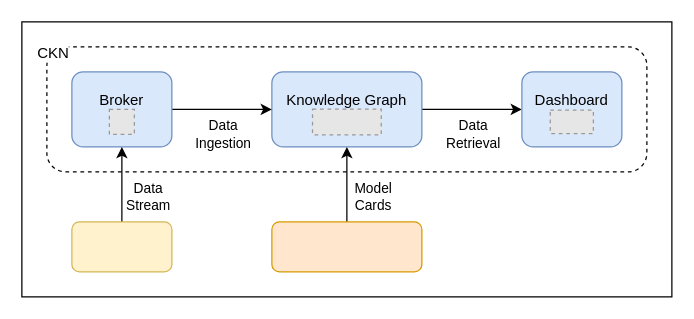
Some shapes in this 694 by 319 pixel diagram are drawn without their labels. Grey dashed boxes stand in for pictures. The centre of each missing label's shape, as x and y in pixels:
Patra Server: the point at 346,246
Plugin: the point at 121,246
